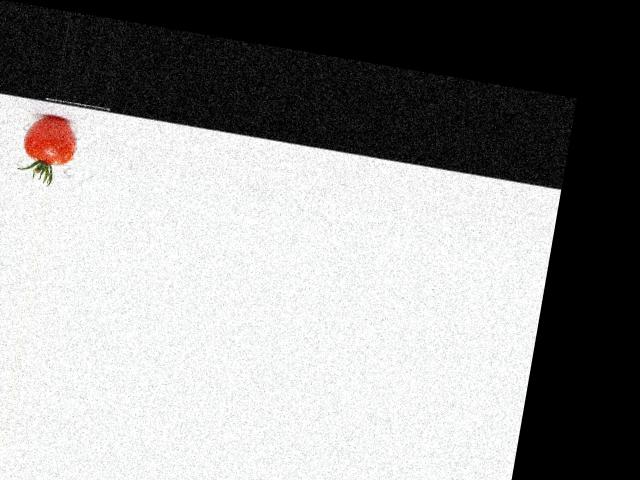tomato: (20, 113, 79, 166)
